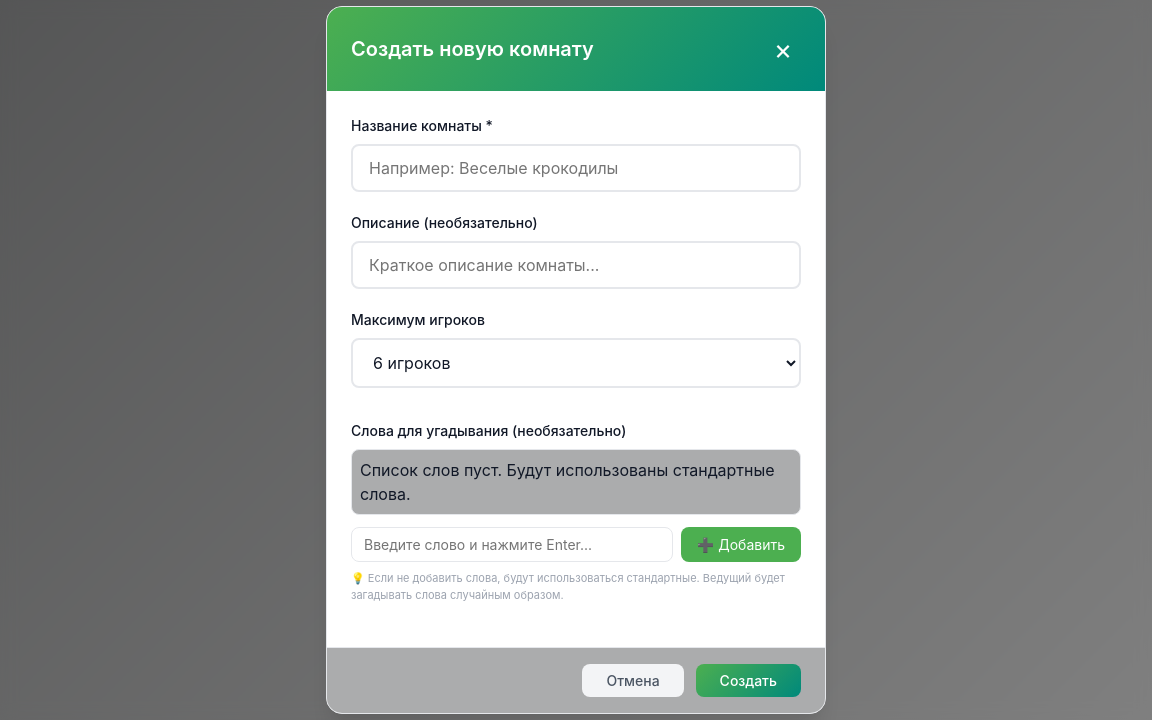
Scenario: CreateRoomModal › validates room name - empty
The width and height of the screenshot is (1152, 720).
Click the button "Создать" at (748, 680), box [696,664,801,697]
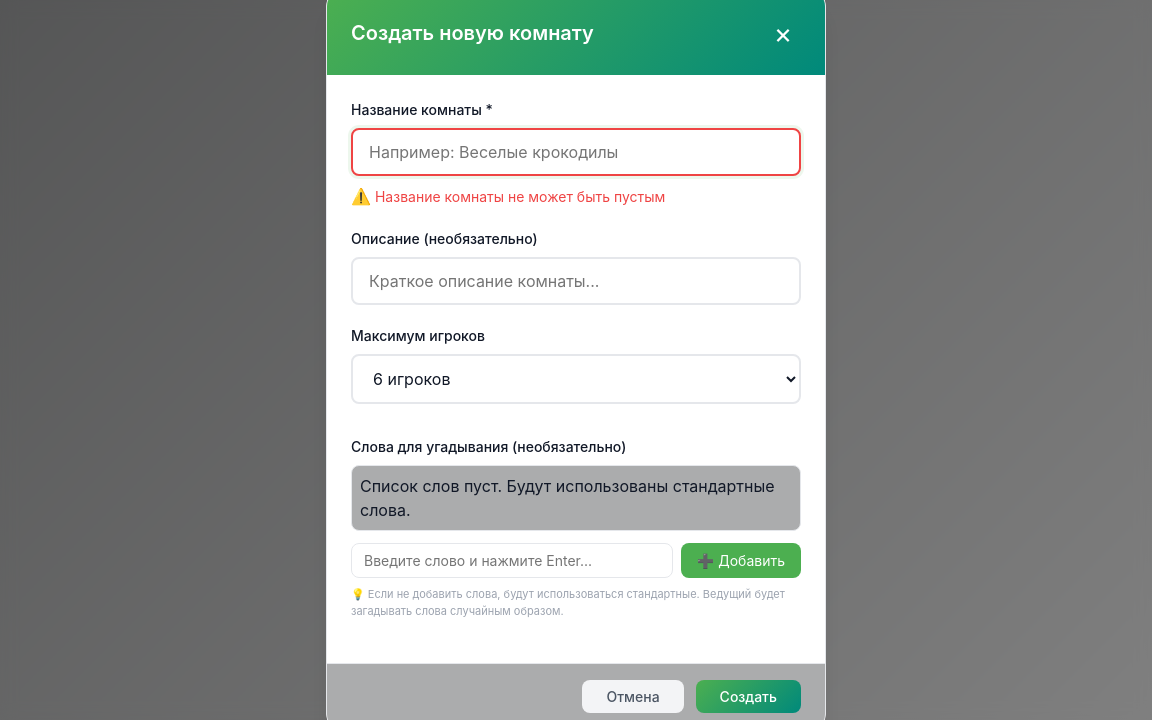
Now the text "Название комнаты не может быть пустым" is shown, box [375,188,665,204]
